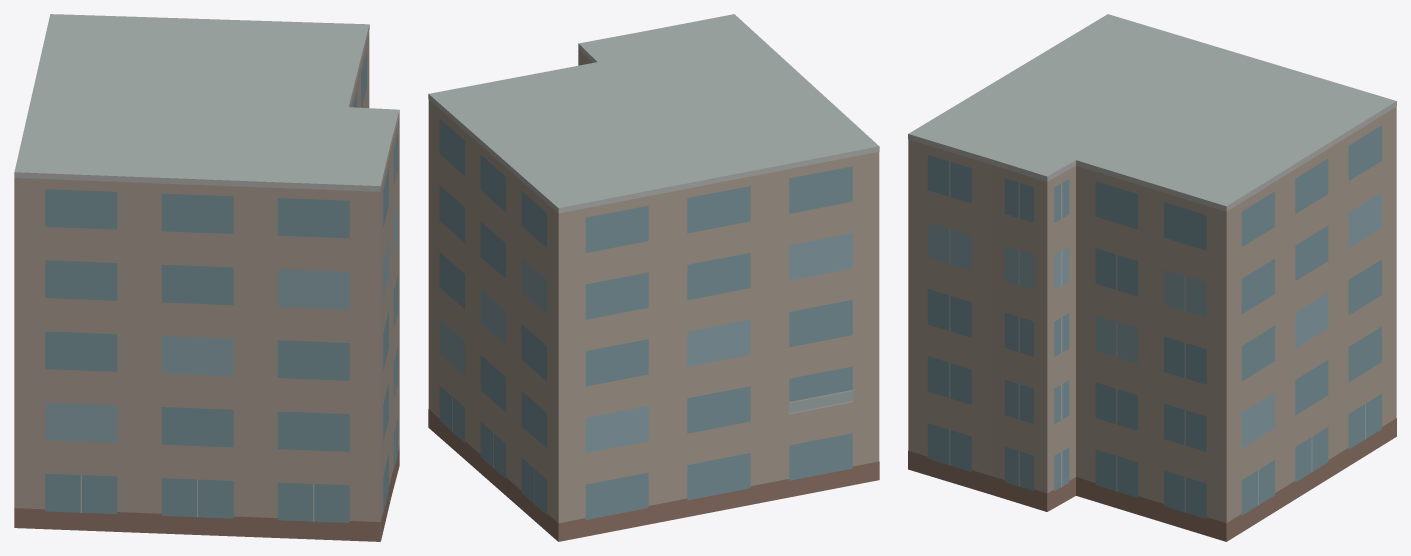
Rendered from survey-upis-32759366.glb.
3 renders of one model, left to right at view 1: azimuth 30°, elevation 25°; view 2: azimuth 150°, elevation 25°; view 3: azimuth 270°, elevation 25°, orthographic. The views are drawn at different scales.
Parts seen in each view (by area): view 1: survey-upis-32759366.tmp; view 2: survey-upis-32759366.tmp; view 3: survey-upis-32759366.tmp.
Part boxes in pixels (x1,y1,x2,y2): survey-upis-32759366.tmp: (14,14,399,541); survey-upis-32759366.tmp: (428,14,879,541); survey-upis-32759366.tmp: (908,14,1396,541).
Size of the model in its own units: 18.76 by 15.25 by 20.13.
